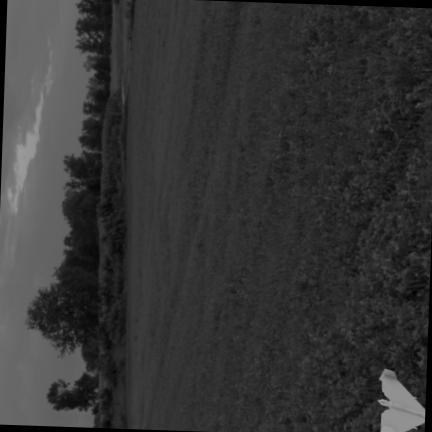Shahed: (377, 368, 425, 432)
